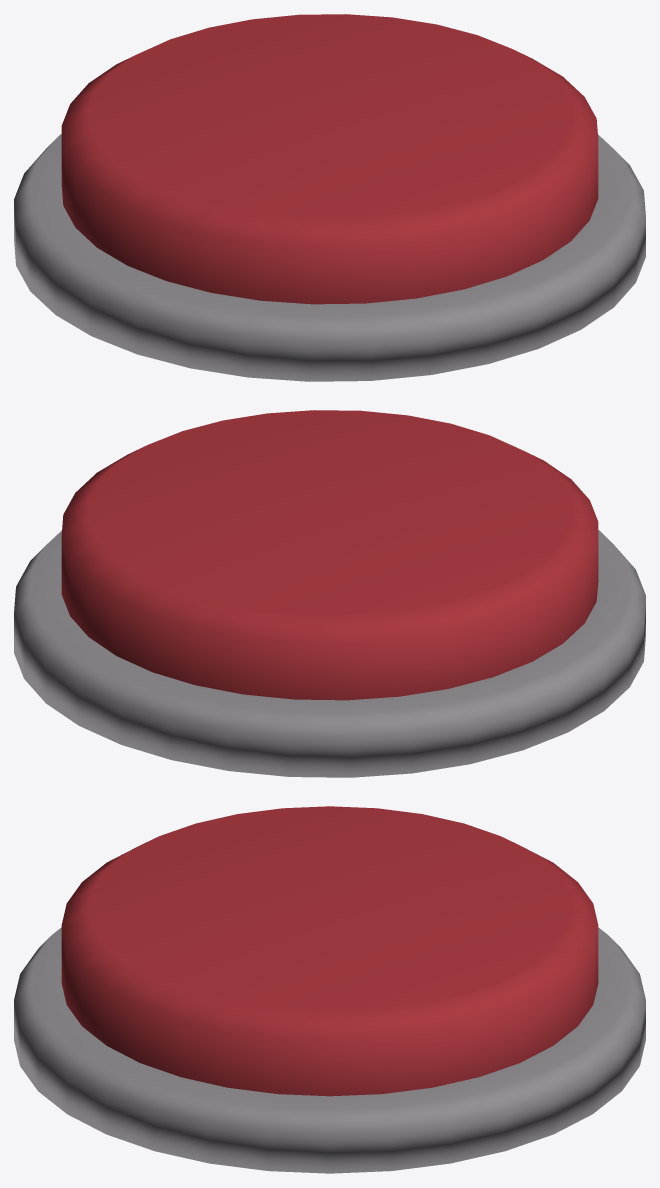
File: boton animado.fbx
3 renders of one model, top to bottom at view 1: azimuth 30°, elevation 25°; view 2: azimuth 150°, elevation 25°; view 3: azimuth 270°, elevation 25°, orthographic.
Visible parts, largest first — view 1: Cylinder.001, Cylinder; view 2: Cylinder.001, Cylinder; view 3: Cylinder.001, Cylinder.
Part boxes in pixels (box(x1,y1,x2,y2)): Cylinder.001: box(61, 14, 598, 304); Cylinder: box(14, 134, 645, 381); Cylinder.001: box(61, 410, 598, 700); Cylinder: box(14, 530, 645, 777); Cylinder.001: box(61, 806, 598, 1096); Cylinder: box(14, 927, 645, 1173).
Bounding box in the file's own units: 100 × 23 × 100.
